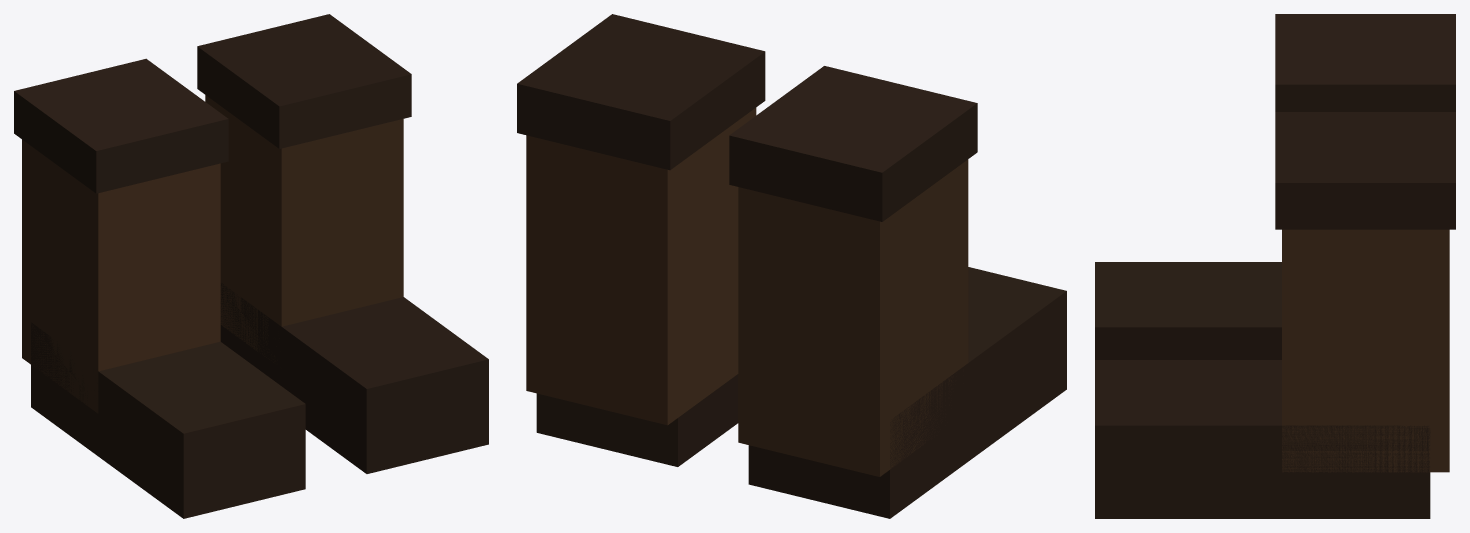
Rendered from hob_boots.glb.
The picture shows the model from 3 angles, left to right: view 1: azimuth 30°, elevation 25°; view 2: azimuth 150°, elevation 25°; view 3: azimuth 270°, elevation 25°; orthographic projection. The views are drawn at different scales.
Visible parts, largest first — view 1: HobBoots; view 2: HobBoots; view 3: HobBoots.
Part boxes in pixels (<box>): HobBoots: <box>14,14,488,518</box>; HobBoots: <box>517,14,1066,518</box>; HobBoots: <box>1095,14,1455,518</box>.
Bounding box in the file's own units: 0.31 × 0.29 × 0.28.
